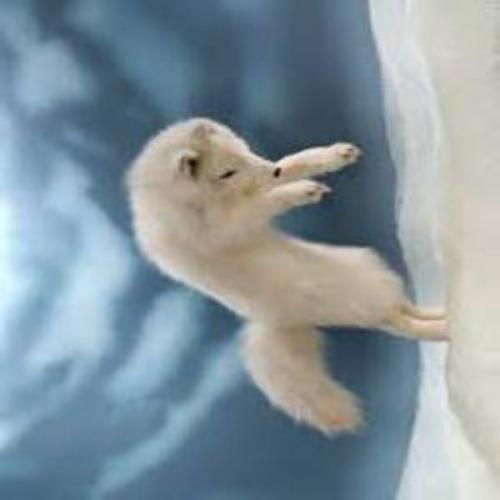arctic_fox-endangered: (130, 117, 449, 439)
